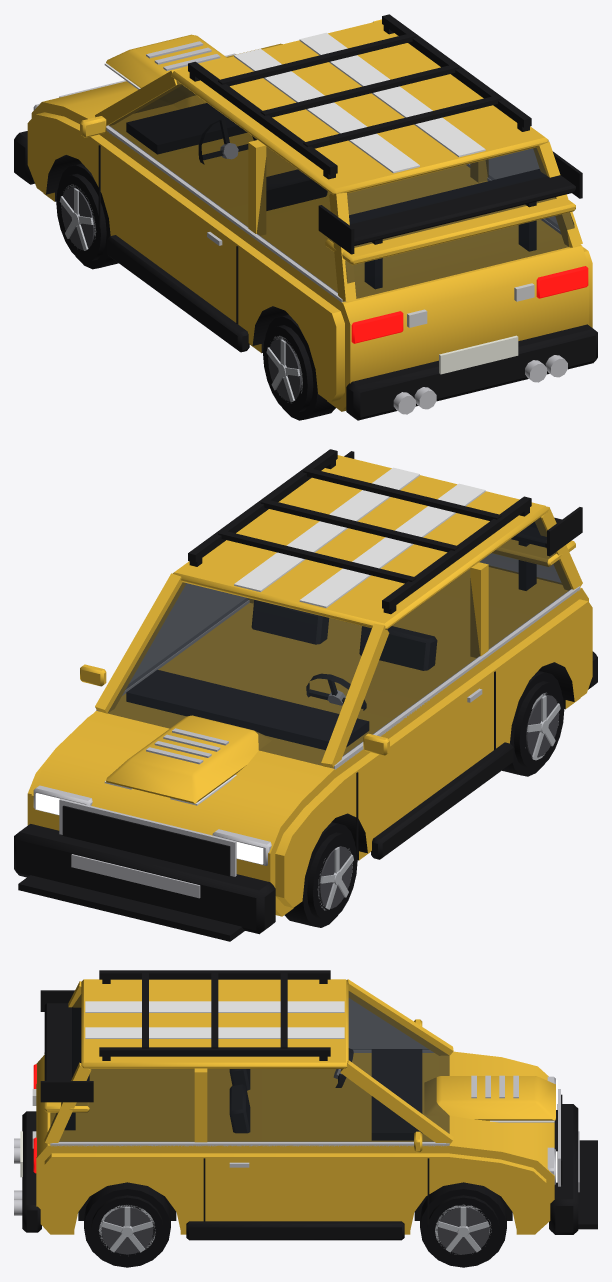
The model's file is compact.glb.
3 views of the same model, one above another, from view 1: azimuth 30°, elevation 25°; view 2: azimuth 150°, elevation 25°; view 3: azimuth 270°, elevation 25° (orthographic). The views are drawn at different scales.
Visible parts, largest first — view 1: Body, Mod_roof_1, Mod_spoiler_2, Mod_livery_1, Mod_spoiler_1, Wheel_RL, Wheel_FL, Mod_skirts_1, Mod_hood_1, Mod_exhaust_2, Mod_hood_2, Steering (+1 smaller); view 2: Body, Mod_bumper_1, Mod_roof_1, Mod_livery_1, Mod_hood_1, Wheel_FL, Mod_grille_2, Wheel_RL, Mod_grille_1, Mod_bumper_2, Mod_skirts_1, Mod_spoiler_2 (+3 smaller); view 3: Body, Mod_roof_1, Wheel_RR, Wheel_FR, Mod_livery_1, Mod_hood_1, Mod_spoiler_2, Mod_skirts_1, Mod_bumper_1, Mod_bumper_2, Mod_hood_2, Mod_spoiler_1 (+2 smaller).
Boxes of the visible parts, box(x1,y1,x2,y2) form: Body: box(27, 19, 597, 420); Mod_roof_1: box(188, 14, 531, 179); Mod_spoiler_2: box(318, 151, 582, 288); Mod_livery_1: box(104, 32, 485, 173); Mod_spoiler_1: box(325, 197, 575, 288); Wheel_RL: box(263, 314, 335, 420); Wheel_FL: box(56, 163, 118, 269); Mod_skirts_1: box(106, 235, 249, 352); Mod_hood_1: box(106, 34, 226, 109); Mod_exhaust_2: box(393, 355, 567, 414); Mod_hood_2: box(146, 41, 220, 70); Steering: box(198, 119, 256, 164); Body: box(27, 455, 597, 916); Mod_bumper_1: box(14, 824, 275, 934); Mod_roof_1: box(188, 449, 531, 614); Mod_livery_1: box(104, 467, 485, 805); Mod_hood_1: box(106, 715, 271, 803); Wheel_FL: box(284, 822, 357, 927); Mod_grille_2: box(59, 798, 236, 876); Wheel_RL: box(502, 671, 564, 776); Mod_grille_1: box(72, 806, 221, 873); Mod_bumper_2: box(18, 875, 244, 941); Mod_skirts_1: box(371, 742, 513, 859); Mod_spoiler_2: box(344, 451, 582, 590); Body: box(20, 979, 557, 1234); Mod_roof_1: box(99, 970, 330, 1060); Wheel_RR: box(84, 1182, 170, 1267); Wheel_FR: box(420, 1182, 506, 1267); Mod_livery_1: box(85, 1001, 554, 1122); Mod_hood_1: box(424, 1076, 555, 1120); Mod_spoiler_2: box(40, 990, 93, 1127); Mod_skirts_1: box(186, 1221, 404, 1240); Mod_bumper_1: box(550, 1104, 579, 1234); Mod_bumper_2: box(578, 1140, 597, 1229); Mod_hood_2: box(471, 1075, 518, 1098); Mod_spoiler_1: box(44, 1102, 89, 1130).
Size of the model in its own units: 2.06 by 1.66 by 4.17.
